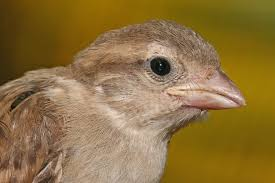hsparrow: (1, 16, 252, 180)
